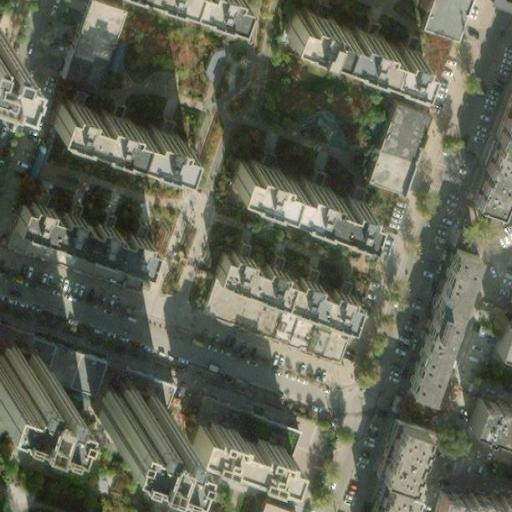building: (0, 320, 167, 412), (396, 247, 474, 398), (222, 158, 364, 232), (209, 247, 351, 320), (7, 187, 149, 259), (42, 86, 182, 159), (278, 8, 413, 79), (358, 98, 427, 195), (187, 415, 291, 474), (195, 391, 292, 449), (386, 30, 448, 110), (445, 292, 501, 375), (473, 98, 512, 216), (76, 379, 151, 440), (363, 403, 411, 469), (416, 469, 479, 512), (461, 398, 512, 446), (244, 471, 298, 512), (356, 462, 398, 512), (472, 481, 512, 512), (488, 324, 512, 358)
